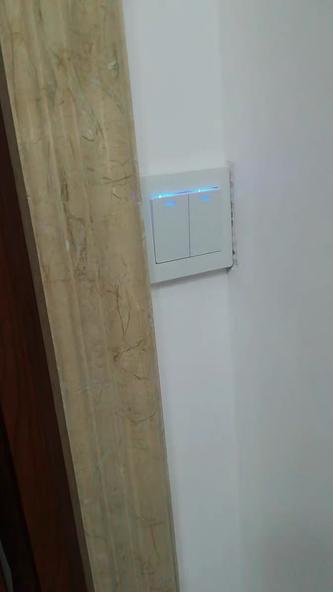switch: (192, 181, 228, 256), (155, 191, 189, 262)
